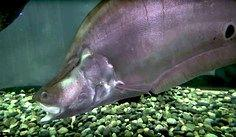Knifefish: (33, 1, 236, 126)
